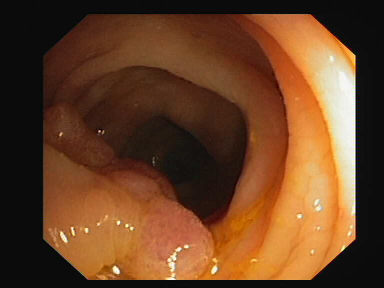polyp: (49, 104, 117, 166), (109, 172, 168, 203), (117, 159, 173, 178)
